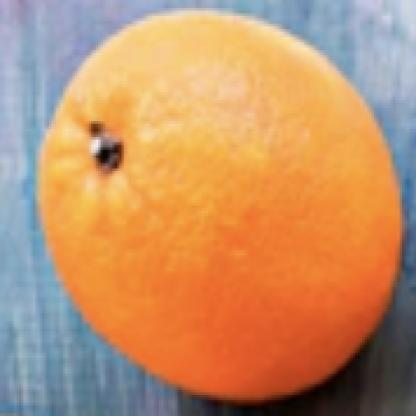fresh: (41, 11, 407, 406)
